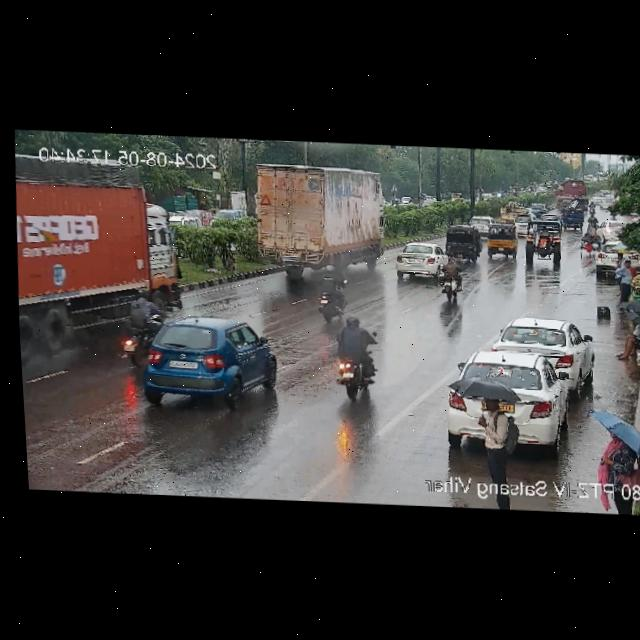car: (137, 300, 287, 425), (440, 352, 564, 450), (495, 317, 591, 393), (579, 237, 640, 291), (388, 243, 449, 283), (441, 222, 484, 265), (480, 218, 520, 264), (208, 199, 244, 226), (592, 215, 627, 241), (510, 209, 535, 237), (558, 206, 583, 233), (465, 209, 490, 234), (527, 199, 548, 219), (598, 194, 617, 209)
motorcycle: (332, 307, 382, 401), (116, 288, 168, 370), (300, 264, 349, 325), (435, 248, 473, 308), (584, 199, 599, 218)
person: (452, 377, 524, 496), (591, 400, 640, 484), (614, 311, 640, 369), (612, 294, 640, 334), (612, 253, 636, 298), (606, 253, 628, 284)
truck: (10, 173, 174, 346), (252, 157, 390, 272), (556, 179, 586, 204)
